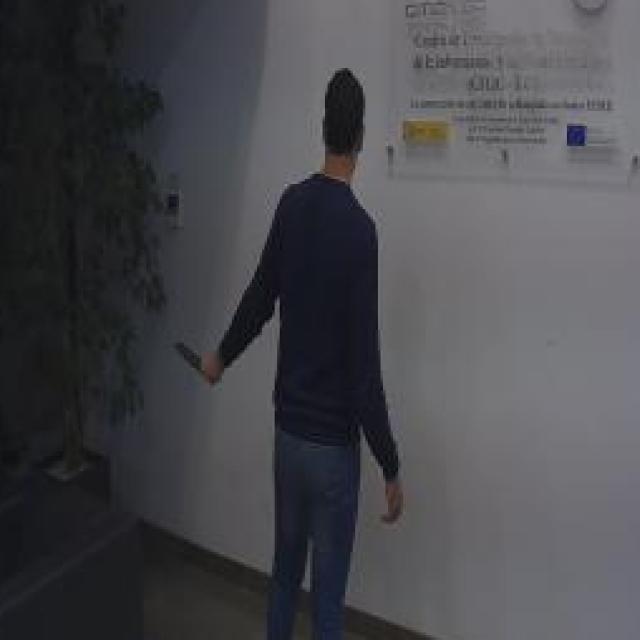knife: (171, 335, 217, 388)
